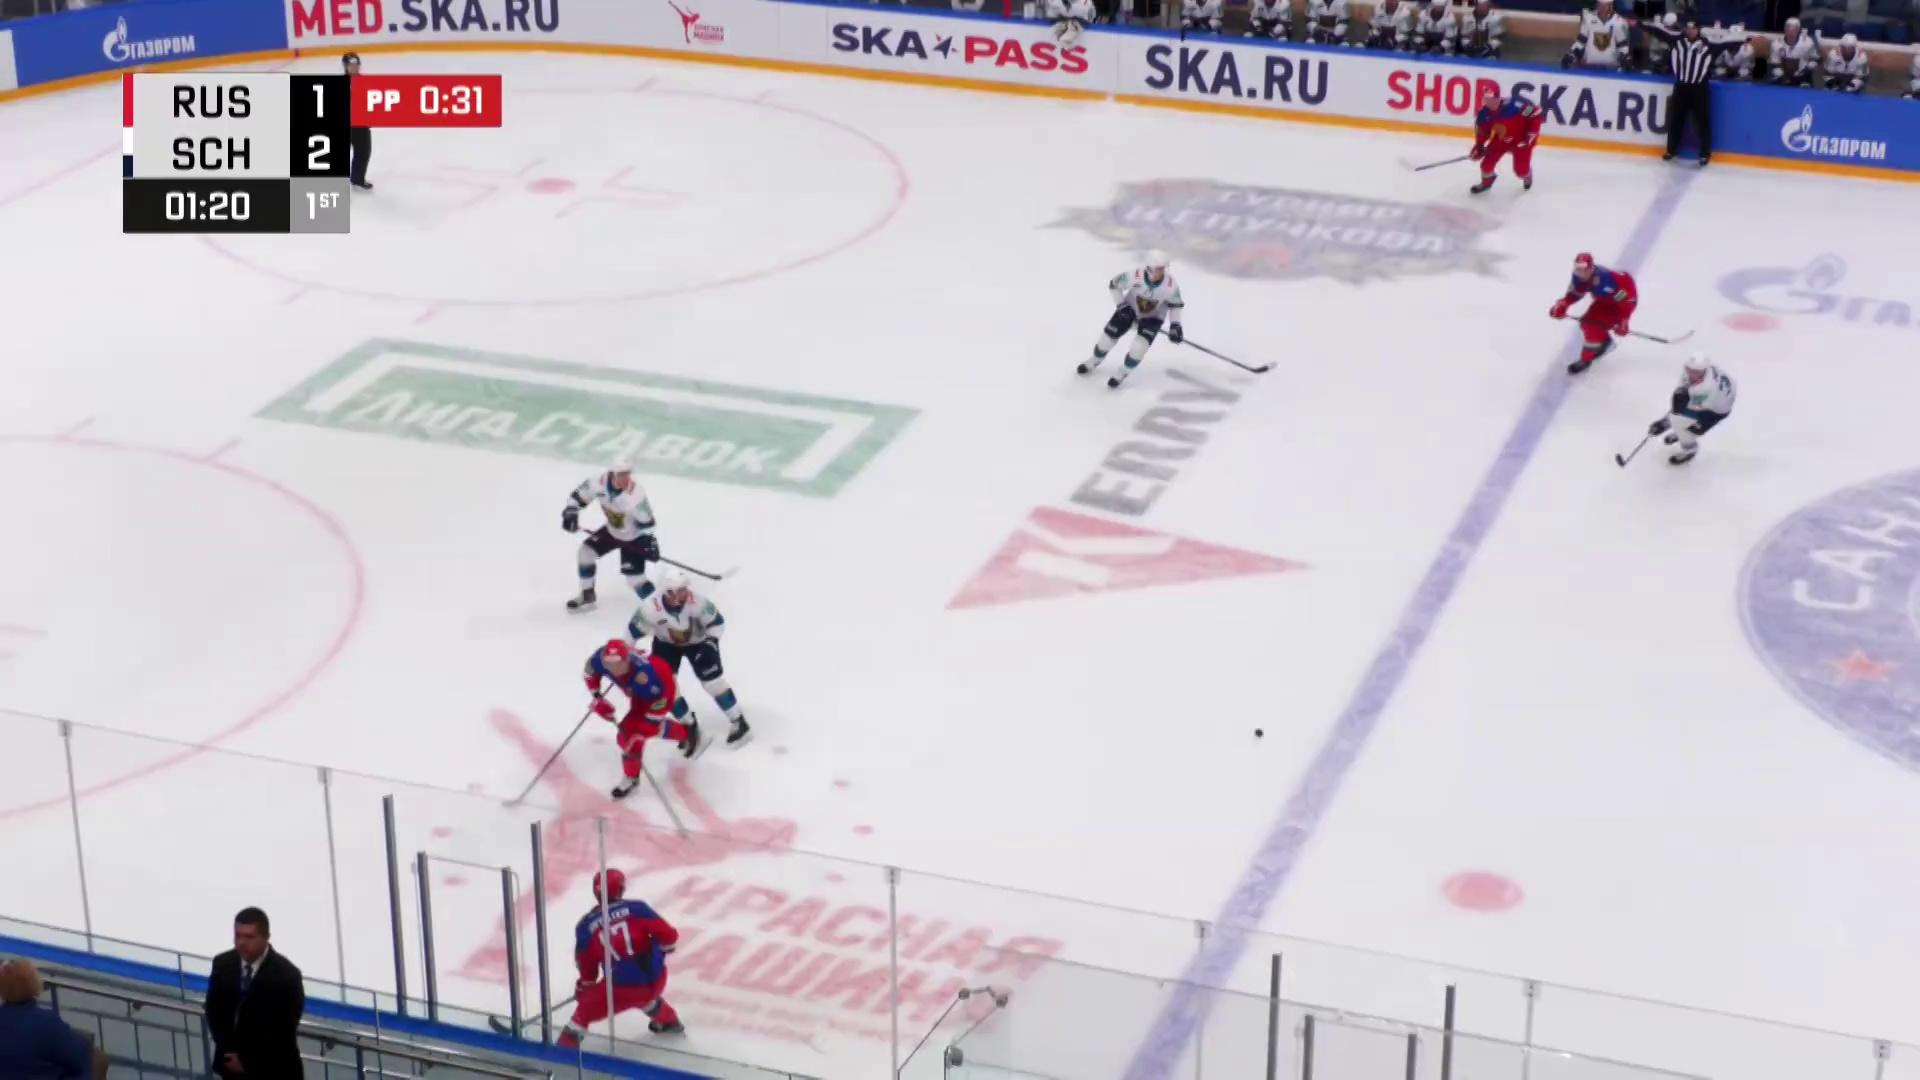ball: (1254, 727, 1265, 738)
